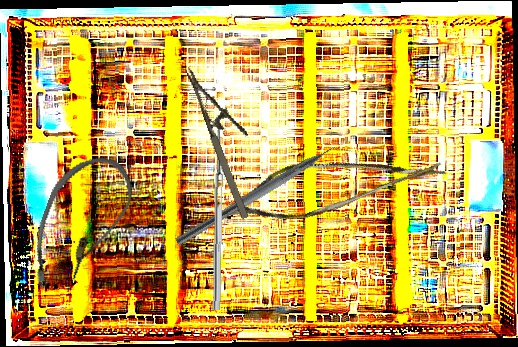Cannula: (19, 144, 142, 306)
Chopper: (175, 134, 353, 258)
Micro Scissor: (223, 110, 451, 255)
Needle Holder: (184, 56, 274, 221)
Spatula Surgical: (205, 120, 224, 311)
